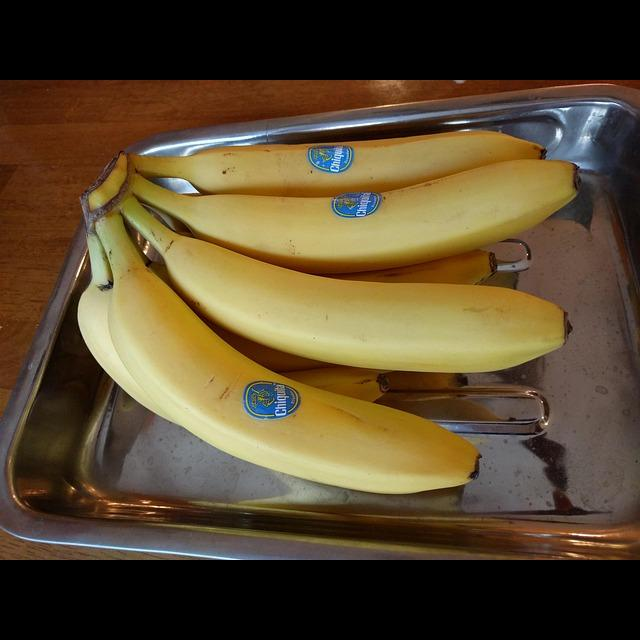apple: (97, 266, 499, 505), (51, 269, 400, 468), (154, 223, 576, 381), (156, 157, 619, 269), (167, 120, 567, 197), (231, 245, 524, 306)
